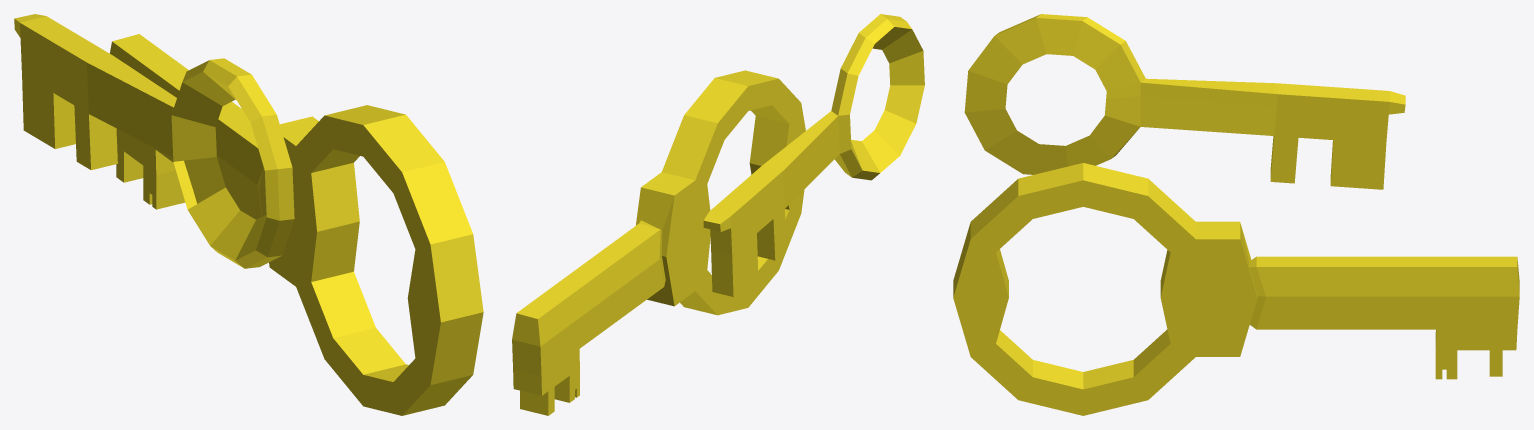
File: Nøgler.fbx
3 views of the same model, side by side, from view 1: azimuth 30°, elevation 25°; view 2: azimuth 150°, elevation 25°; view 3: azimuth 270°, elevation 25° (orthographic). The views are drawn at different scales.
Parts seen in each view (by area): view 1: Nøgle 1, Nøgle 2; view 2: Nøgle 1, Nøgle 2; view 3: Nøgle 1, Nøgle 2.
Boxes of the visible parts, x1,y1,x2,y2 form: Nøgle 1: (110,34,483,415); Nøgle 2: (14,14,294,268); Nøgle 1: (512,70,805,415); Nøgle 2: (703,14,924,296); Nøgle 1: (953,163,1519,415); Nøgle 2: (964,14,1405,189).
Size of the model in its own units: 443 by 806 by 1278.
